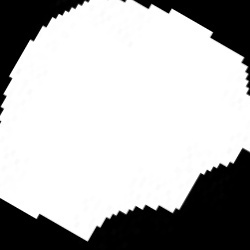spot: (2, 2, 249, 241)
